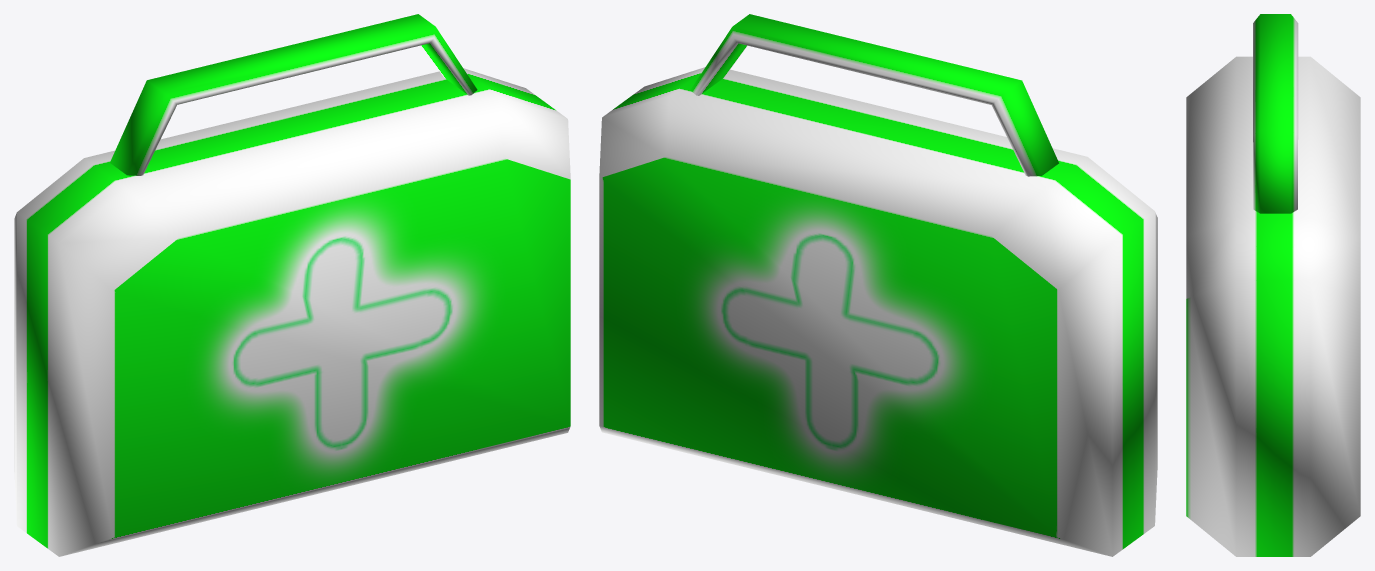
Rendered from AidKit.fbx.
3 views of the same model, side by side, from view 1: azimuth 30°, elevation 25°; view 2: azimuth 150°, elevation 25°; view 3: azimuth 270°, elevation 25° (orthographic). The views are drawn at different scales.
Parts seen in each view (by area): view 1: Cube, Plane; view 2: Cube, Plane; view 3: Cube, Plane.
Part boxes in pixels (x1,y1,x2,y2): Cube: [14, 68, 570, 556]; Plane: [110, 14, 477, 175]; Cube: [599, 67, 1157, 556]; Plane: [690, 14, 1058, 176]; Cube: [1186, 56, 1360, 556]; Plane: [1253, 14, 1298, 213].
Size of the model in its own units: 375 by 126 by 299.
